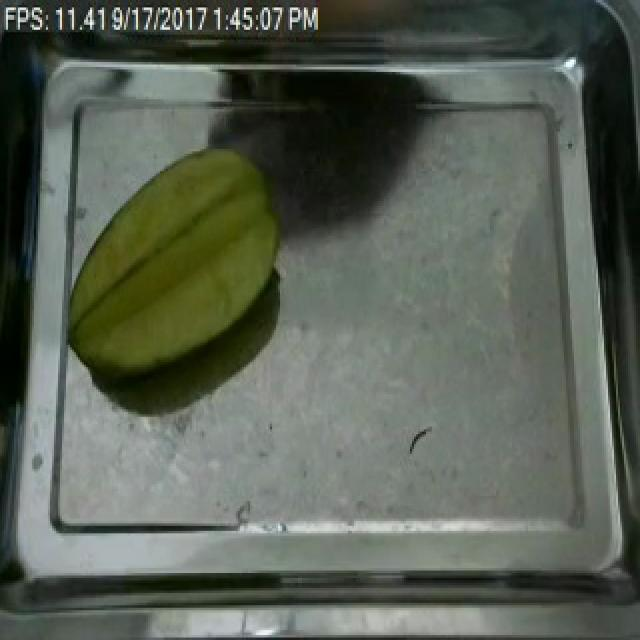fruit: (56, 136, 290, 390)
